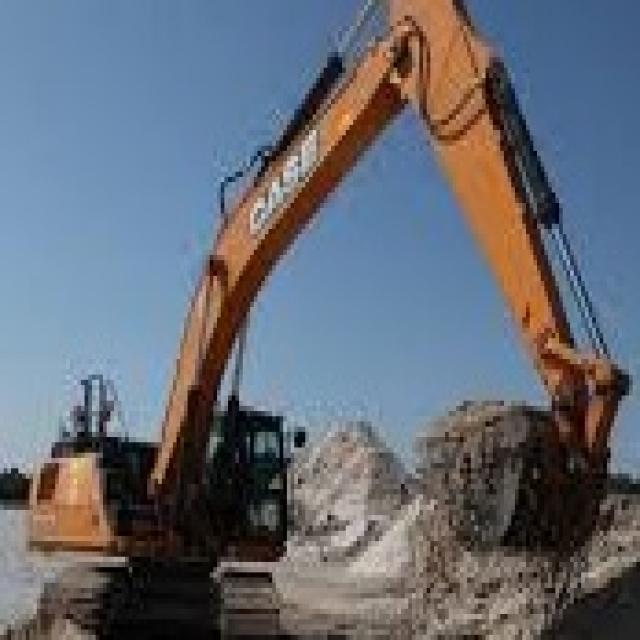excavator: (25, 362, 307, 640)
